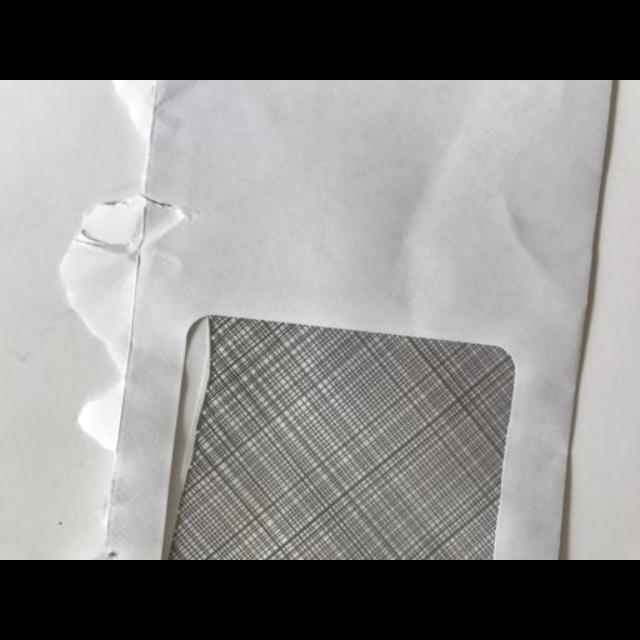papel: (61, 80, 619, 560)
